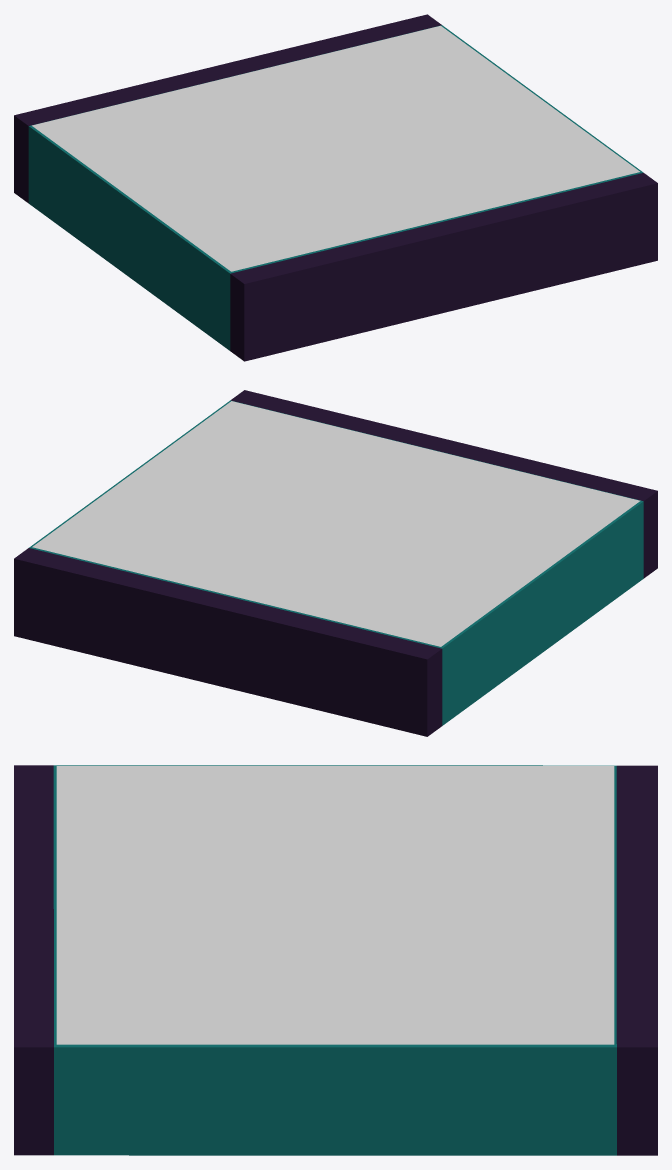
The model's file is plataforma_final_id_mesh.fbx.
The picture shows the model from 3 angles, top to bottom: view 1: azimuth 30°, elevation 25°; view 2: azimuth 150°, elevation 25°; view 3: azimuth 270°, elevation 25°; orthographic projection. The views are drawn at different scales.
Parts seen in each view (by area): view 1: alfombra, plataforma; view 2: alfombra, plataforma; view 3: alfombra, plataforma.
Part boxes in pixels (x1,y1,x2,y2): alfombra: (32, 25, 639, 271); plataforma: (14, 14, 657, 361); alfombra: (32, 401, 640, 646); plataforma: (14, 390, 657, 736); alfombra: (56, 766, 614, 1044); plataforma: (14, 765, 657, 1155).
Bounding box in the file's own units: 11.99 × 2.17 × 11.58.
